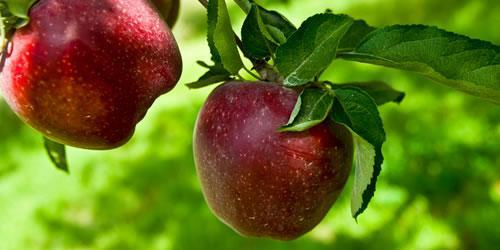apple: (2, 0, 182, 156), (190, 83, 353, 241)
